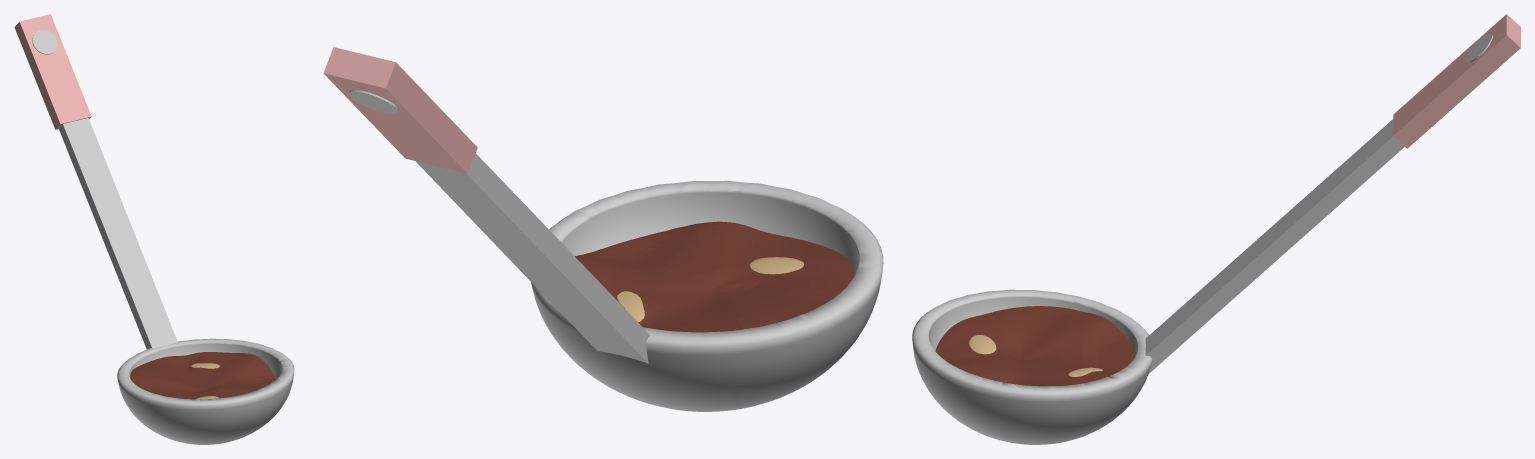
Rendered from sauceladle.fbx.
3 views of the same model, side by side, from view 1: azimuth 30°, elevation 25°; view 2: azimuth 150°, elevation 25°; view 3: azimuth 270°, elevation 25° (orthographic). The views are drawn at different scales.
Visible parts, largest first — view 1: Sphere, Cube.038, Sphere.024, Cube.039, Cylinder.075; view 2: Sphere, Sphere.024, Cube.038, Cube.039, Sphere.126, Cylinder.075; view 3: Sphere, Sphere.024, Cube.038, Cube.039.
Part boxes in pixels (x1,y1,x2,y2): Sphere: (117, 338, 294, 444); Cube.038: (59, 118, 177, 355); Sphere.024: (130, 352, 275, 399); Cube.039: (14, 14, 91, 129); Cylinder.075: (32, 29, 57, 54); Sphere: (531, 180, 883, 411); Sphere.024: (575, 221, 854, 332); Cube.038: (415, 153, 650, 363); Cube.039: (323, 47, 477, 173); Sphere.126: (750, 257, 803, 274); Cylinder.075: (348, 90, 398, 114); Sphere: (912, 289, 1152, 444); Sphere.024: (935, 306, 1134, 386); Cube.038: (1135, 119, 1404, 373); Cube.039: (1393, 14, 1520, 148).
Bounding box in the file's own units: 91.69 × 166 × 226.
